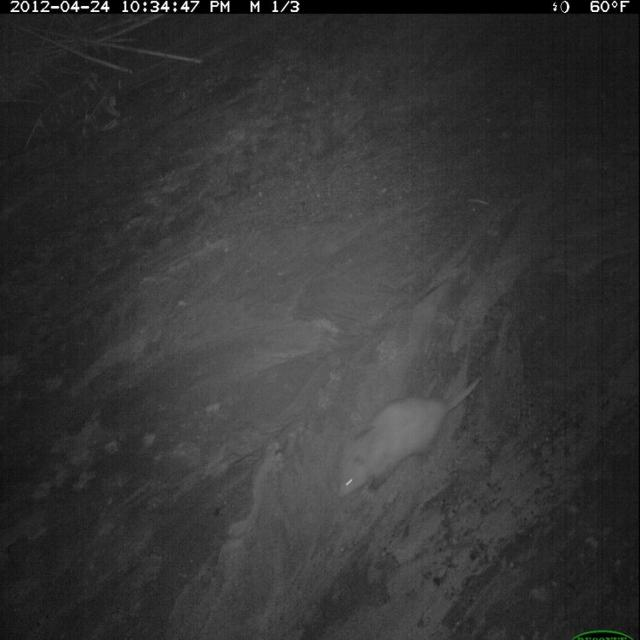opossum: (333, 370, 492, 505)
